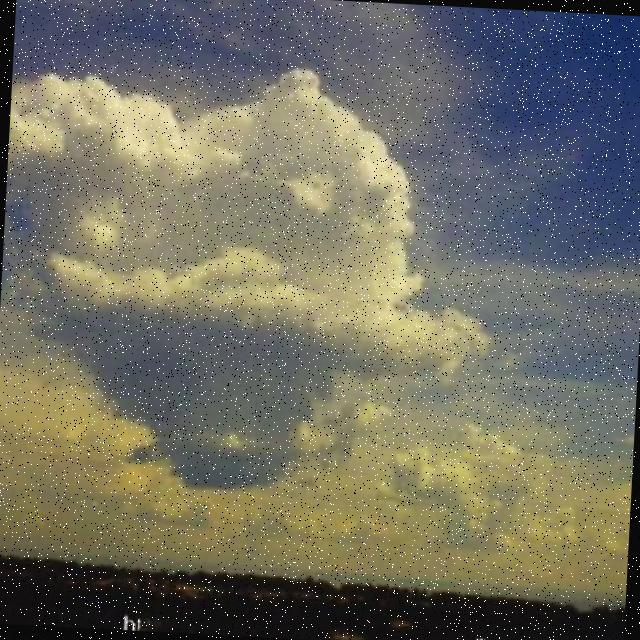Cs: (1, 19, 640, 517)
